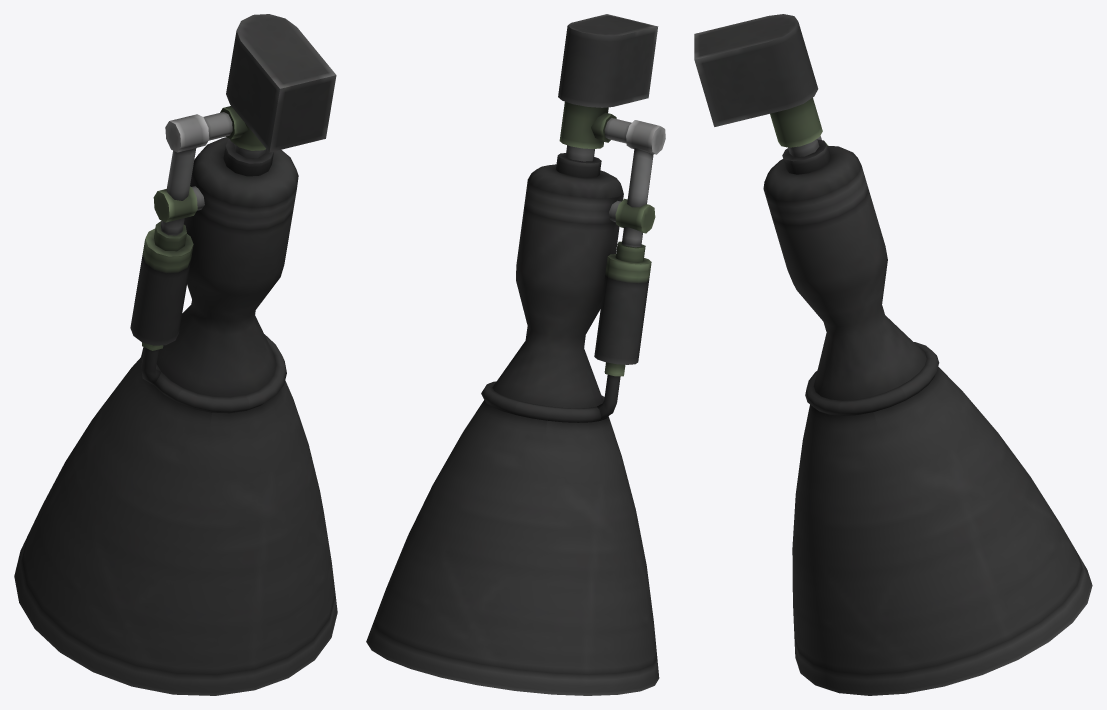
The model's file is grus_engine_srf_2.obj.
3 renders of one model, left to right at view 1: azimuth 30°, elevation 25°; view 2: azimuth 150°, elevation 25°; view 3: azimuth 270°, elevation 25°, orthographic. The views are drawn at different scales.
Visible parts, largest first — view 1: 1; view 2: 1; view 3: 1.
Boxes of the visible parts, bbox=[...] form: 1: bbox=[14, 14, 337, 695]; 1: bbox=[366, 14, 665, 695]; 1: bbox=[694, 14, 1092, 695].
Bounding box in the file's own units: 0.25 × 0.5701 × 0.3235.
1 material, 1 textured.
